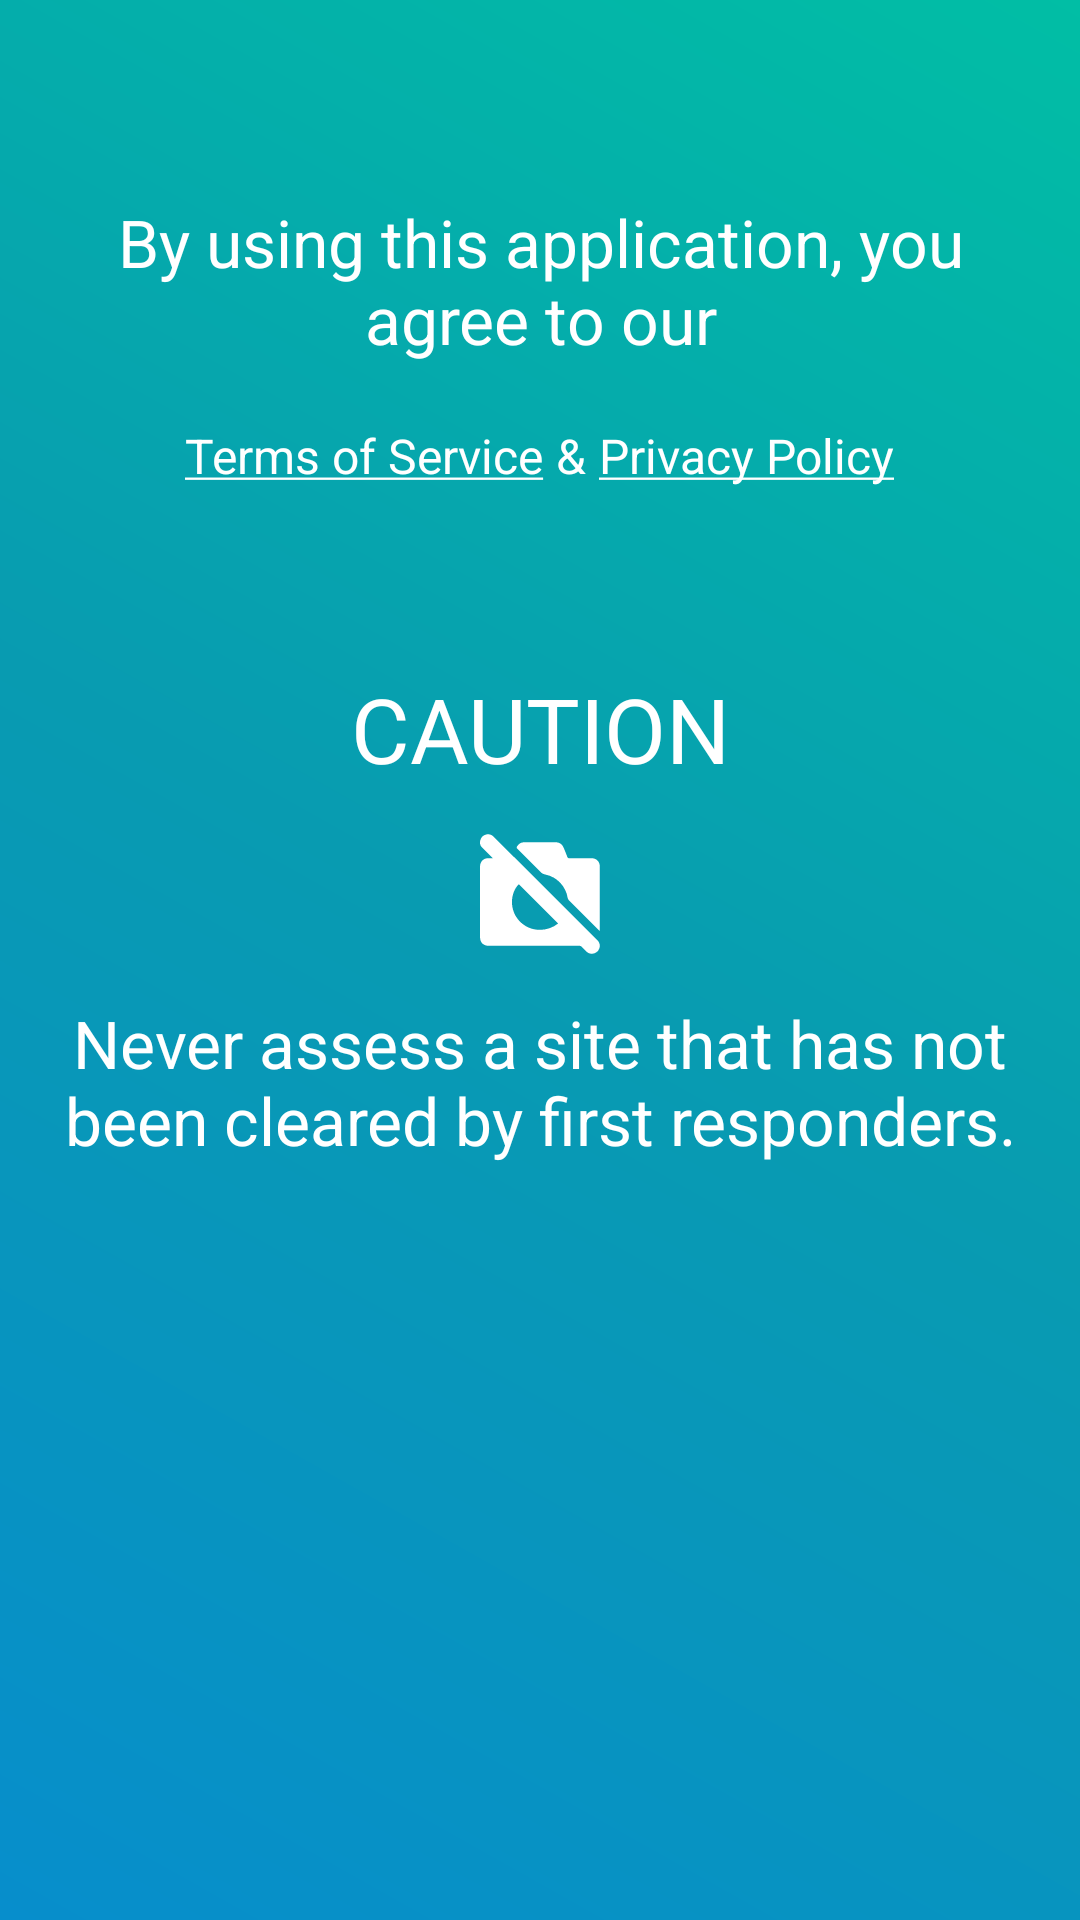

Screen size 1080 × 1920. Icon name, then its center in pixels as [x,y]:
camera off: [540,894]
